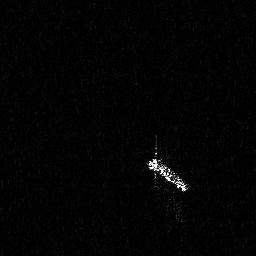ship: (144, 132, 192, 194)
